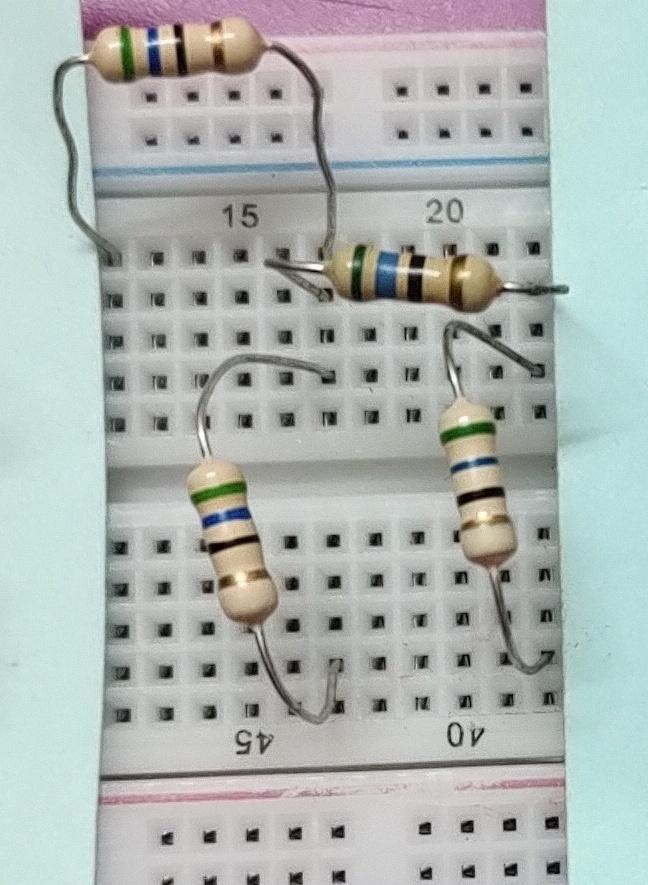resistor: (409, 394, 545, 606), (165, 447, 302, 651), (322, 219, 529, 350), (79, 14, 277, 92)
